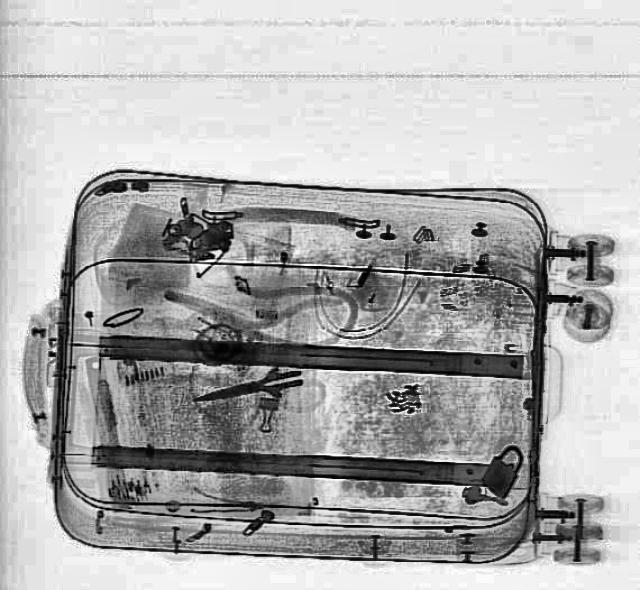Knife: (188, 362, 306, 414)
